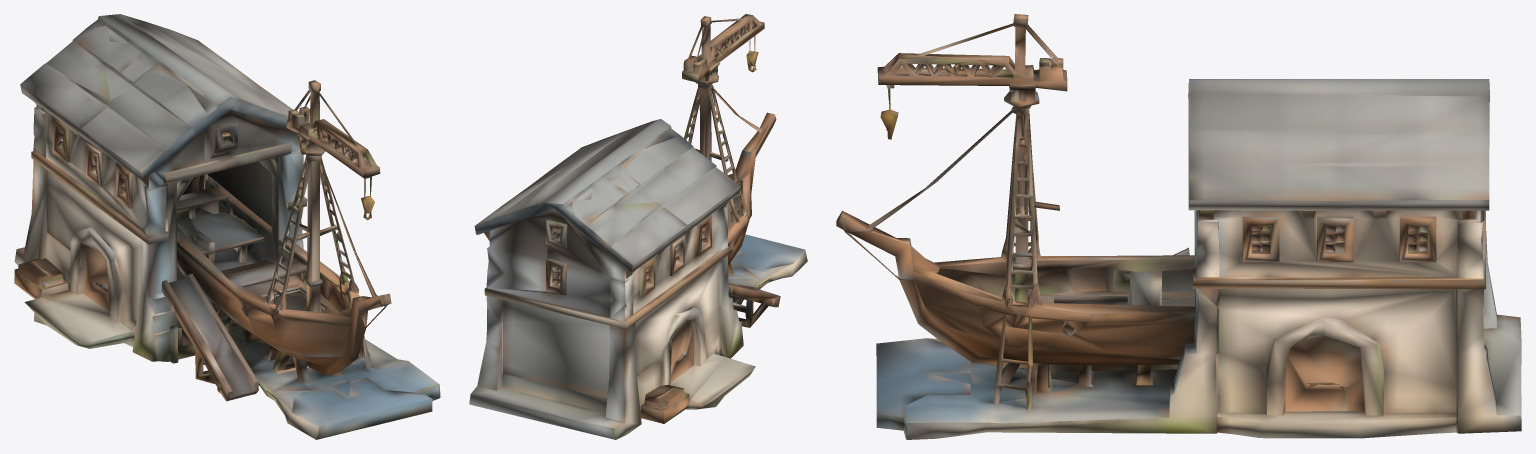
File: tersane.glb
The picture shows the model from 3 angles, left to right: view 1: azimuth 30°, elevation 25°; view 2: azimuth 150°, elevation 25°; view 3: azimuth 270°, elevation 25°; orthographic projection. The views are drawn at different scales.
Parts seen in each view (by area): view 1: node_0; view 2: node_0; view 3: node_0.
Part boxes in pixels (left/top/right/bottom): node_0: left=14, top=14, right=440, bottom=439; node_0: left=469, top=14, right=807, bottom=439; node_0: left=836, top=14, right=1521, bottom=439.
Size of the model in its own units: 0.462 by 0.5896 by 0.9722.
1 material, 1 textured.
